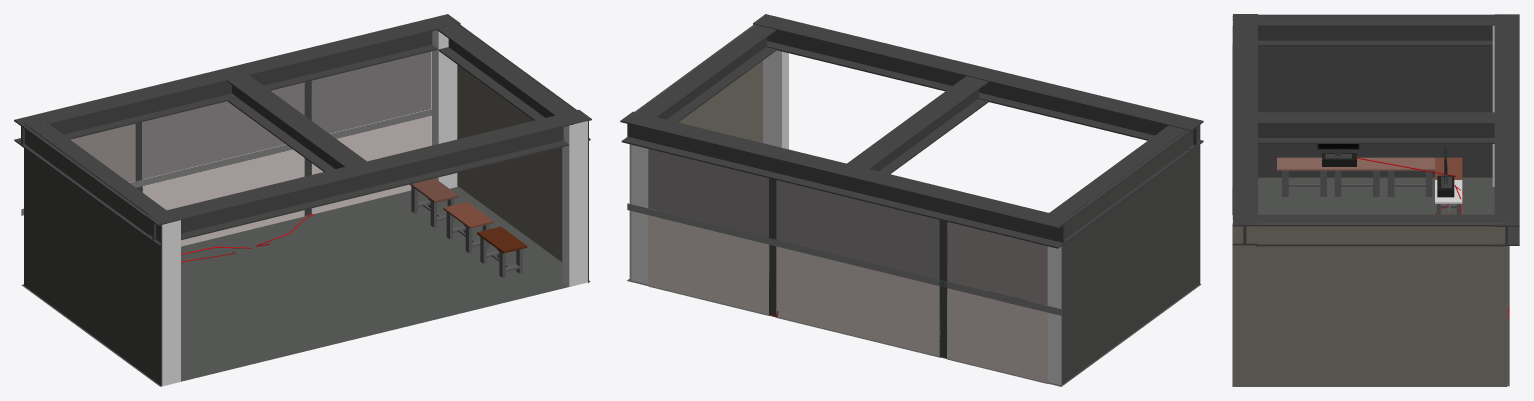
Rendered from lab.gltf.
The picture shows the model from 3 angles, left to right: view 1: azimuth 30°, elevation 25°; view 2: azimuth 150°, elevation 25°; view 3: azimuth 270°, elevation 25°; orthographic projection.
Parts seen in each view (by area): view 1: Piso, Vigas_Amarre, ParedFondo, ParedDerecha, ParedIzquierda.008, ParedIzquierda.007, ParedIzquierda.005, Columna4, Columna1, ParedIzquierda.006, Colimna3, ParedIzquierda.009 (+4 smaller); view 2: Vigas_Amarre, ParedFondo, ParedIzquierda.005, ParedIzquierda.008, ParedIzquierda.006, ParedIzquierda.001, ParedIzquierda.007, ParedIzquierda.009, ParedDerecha, ParedIzquierda.002, Columna4, Colimna3 (+4 smaller); view 3: ParedDerecha, Vigas_Amarre, ParedFondo, Piso, Mesa3, mesa5, mesa4, computador, mesa1, mesa2, compu, Columna2 (+1 smaller).
Part boxes in pixels (x1,y1,x2,y2): Piso: (21, 186, 590, 386); Vigas_Amarre: (14, 14, 591, 245); ParedFondo: (24, 123, 161, 386); ParedDerecha: (451, 19, 588, 282); ParedIzquierda.008: (142, 82, 304, 179); ParedIzquierda.007: (311, 51, 431, 133); ParedIzquierda.005: (142, 149, 304, 246); Columna4: (562, 121, 587, 286); Columna1: (161, 220, 180, 386); ParedIzquierda.006: (311, 116, 431, 213); Colimna3: (431, 30, 457, 188); ParedIzquierda.009: (70, 123, 135, 182); Vigas_Amarre: (620, 14, 1203, 248); ParedFondo: (1061, 124, 1200, 385); ParedIzquierda.005: (776, 246, 940, 357); ParedIzquierda.008: (776, 180, 939, 279); ParedIzquierda.006: (648, 215, 769, 315); ParedIzquierda.001: (947, 288, 1047, 383); ParedIzquierda.007: (648, 149, 768, 237); ParedIzquierda.009: (947, 222, 1047, 305); ParedDerecha: (629, 24, 762, 279); ParedIzquierda.002: (627, 203, 1062, 315); Columna4: (763, 50, 788, 149); Colimna3: (631, 144, 655, 284); ParedDerecha: (1232, 223, 1506, 386); Vigas_Amarre: (1232, 14, 1519, 246); ParedFondo: (1232, 15, 1506, 177); Piso: (1232, 177, 1509, 386); Mesa3: (1382, 157, 1435, 196); mesa5: (1277, 157, 1329, 196); mesa4: (1329, 157, 1382, 196); computador: (1317, 144, 1359, 166); mesa1: (1435, 180, 1462, 214); mesa2: (1435, 157, 1462, 179); compu: (1437, 144, 1454, 197); Columna2: (1492, 25, 1494, 186).
Bounding box in the file's own units: 18.04 × 6.51 × 10.39.
